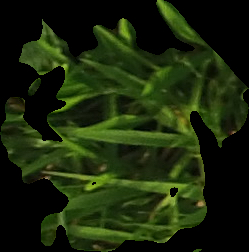grass: (1, 1, 248, 250)
